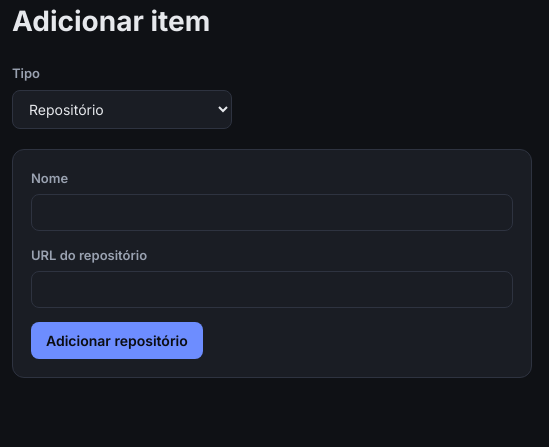
Scenario: AddPage › shows the skill form when skill is selected
Select "Skill" in the dropdown labelled "Tipo" at coordinates (122, 109), box [12,90,232,128]
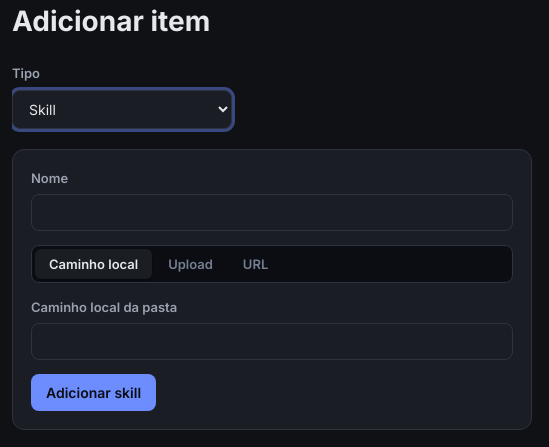
Now the field labelled "Caminho local da pasta" is shown, box [31,323,513,360]
